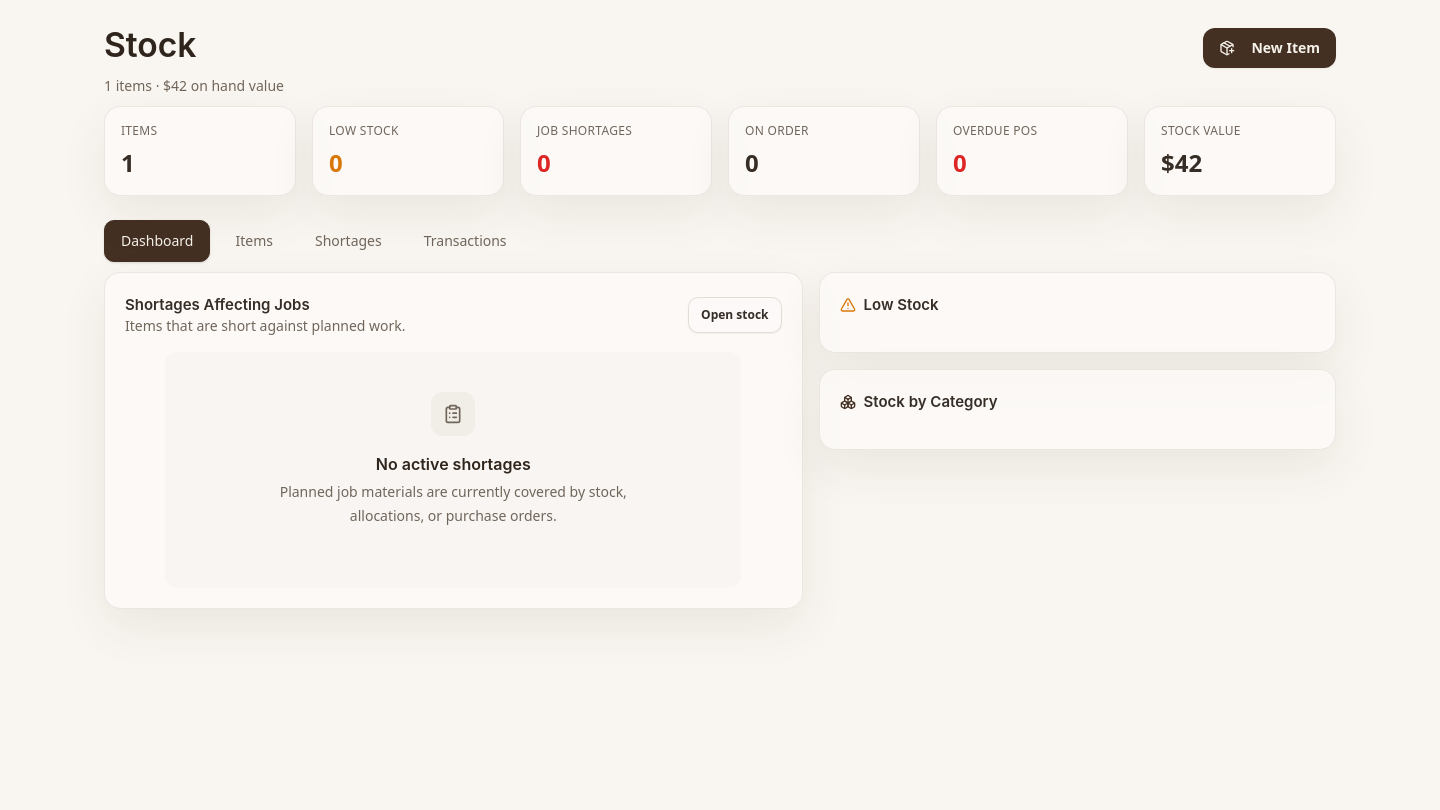
Scenario: Stock dialogs › opens the new item dialog with an accessible description
Expected: the heading "Stock" is shown, [104, 24, 196, 65]
Step 1. Click the button "New Item" → (1270, 48), box [1204, 28, 1336, 68]
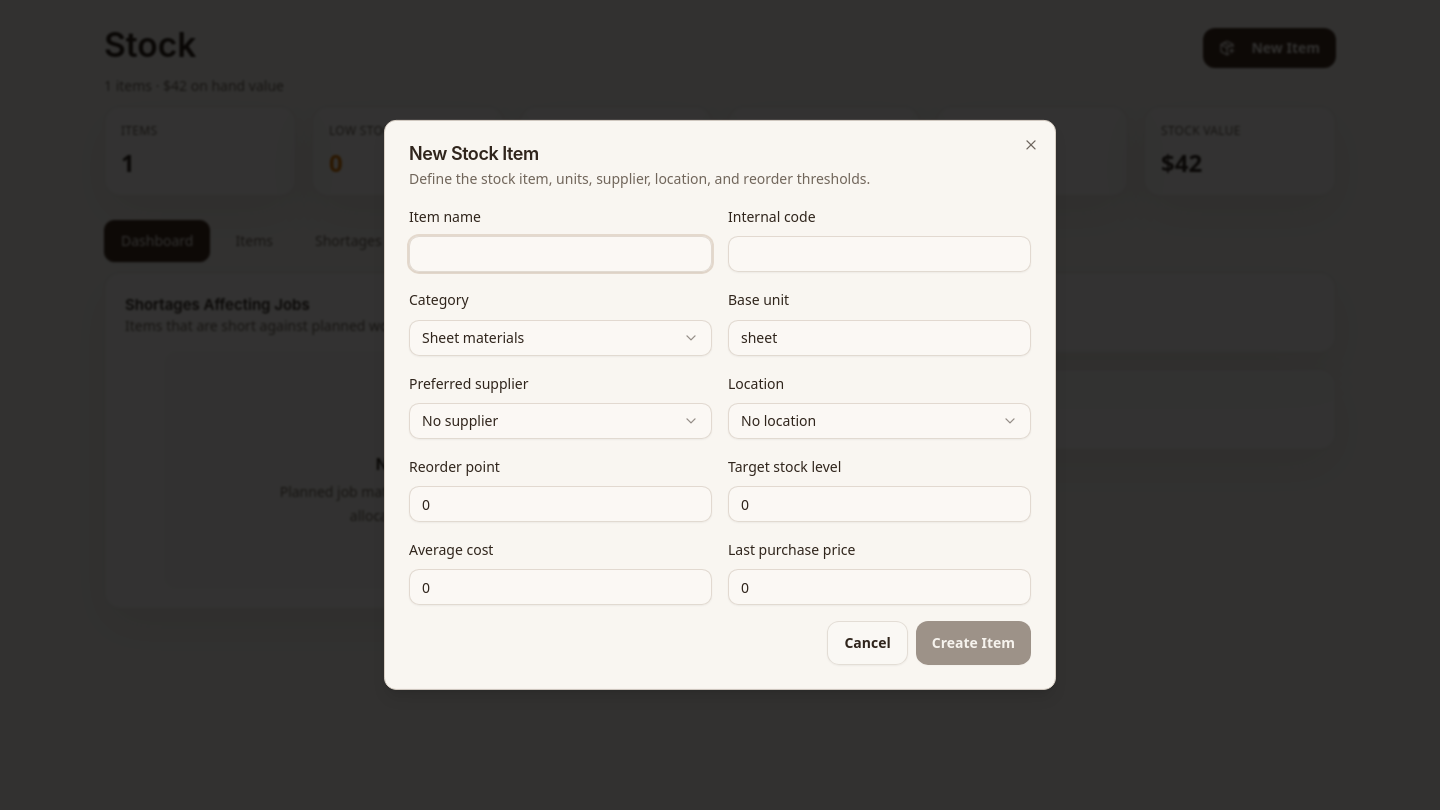
Now the dialog "New Stock Item" is shown, box [384, 120, 1056, 690]
Now the text "Define the stock item, units, supplier, location, and reorder thresholds." is shown, box [409, 169, 870, 188]
